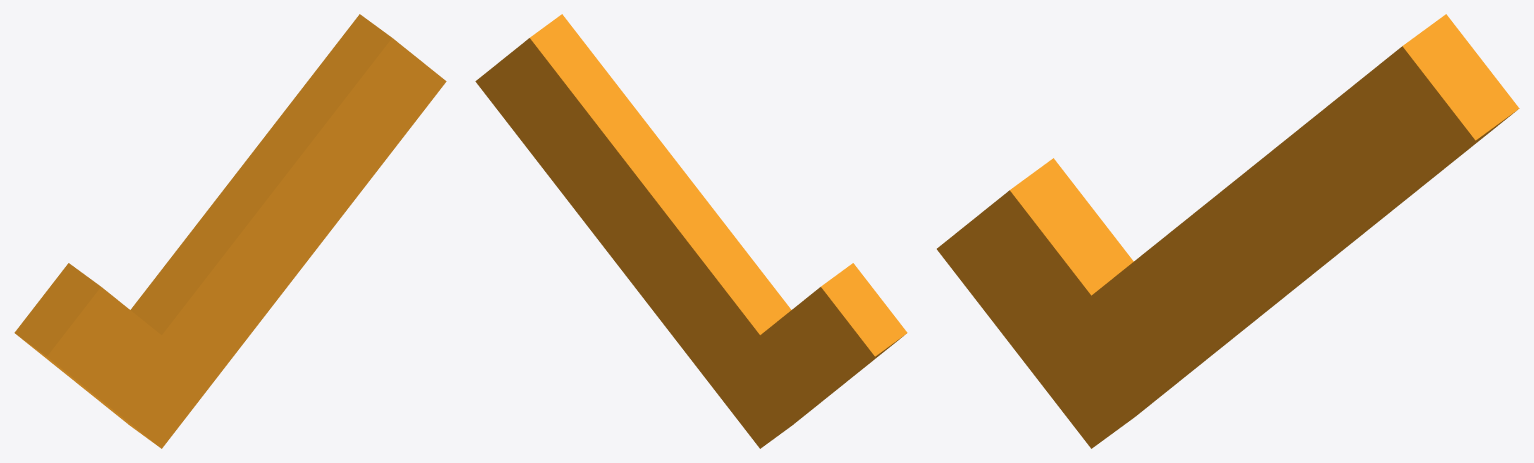
File: SM_Icon_Tick_01.fbx
3 views of the same model, side by side, from view 1: azimuth 30°, elevation 25°; view 2: azimuth 150°, elevation 25°; view 3: azimuth 330°, elevation 25° (orthographic). The views are drawn at different scales.
Visible parts, largest first — view 1: SM_Icon_Tick_01; view 2: SM_Icon_Tick_01; view 3: SM_Icon_Tick_01.
Part boxes in pixels (bbox=[...]): SM_Icon_Tick_01: bbox=[14, 14, 446, 448]; SM_Icon_Tick_01: bbox=[475, 14, 907, 448]; SM_Icon_Tick_01: bbox=[937, 14, 1519, 448].
Size of the model in its own units: 52.04 by 44.15 by 7.34.
